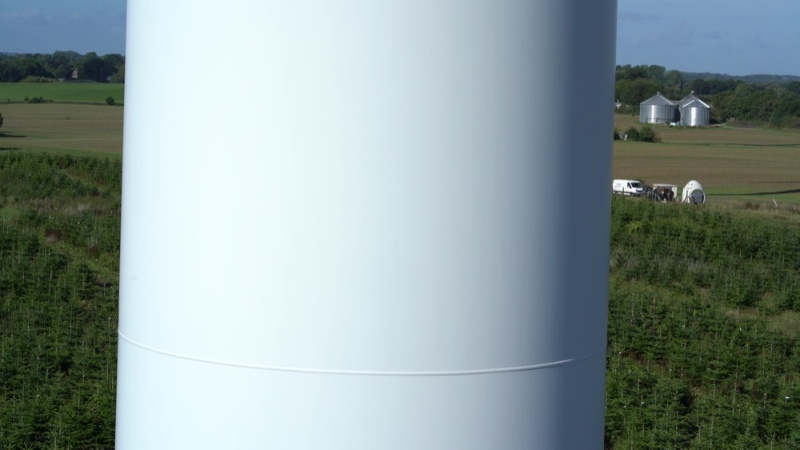weldseam: (116, 325, 607, 381)
